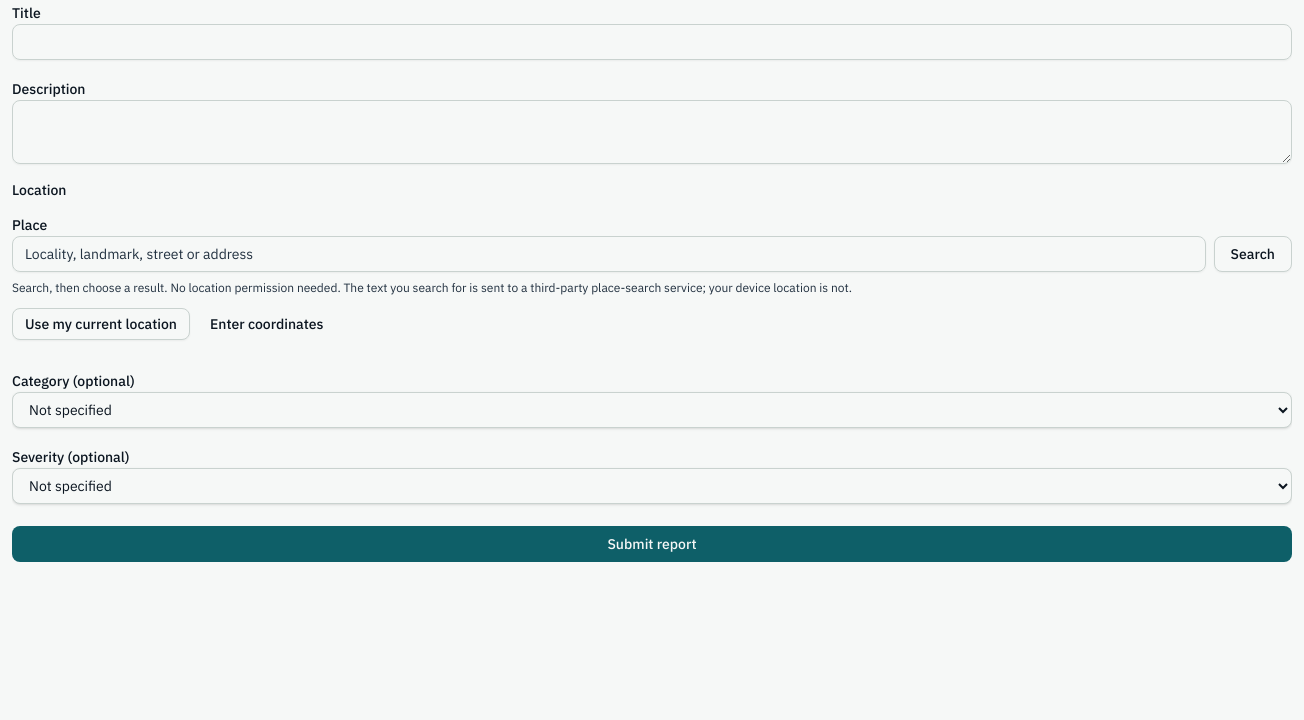
Test: IssueReportForm geolocation › failure: shows manual-entry fallback and leaves coordinates untouched
The image size is (1304, 720).
Click the button "Use my current location" at {"x": 101, "y": 324}, box x1=12 y1=308 x2=190 y2=340
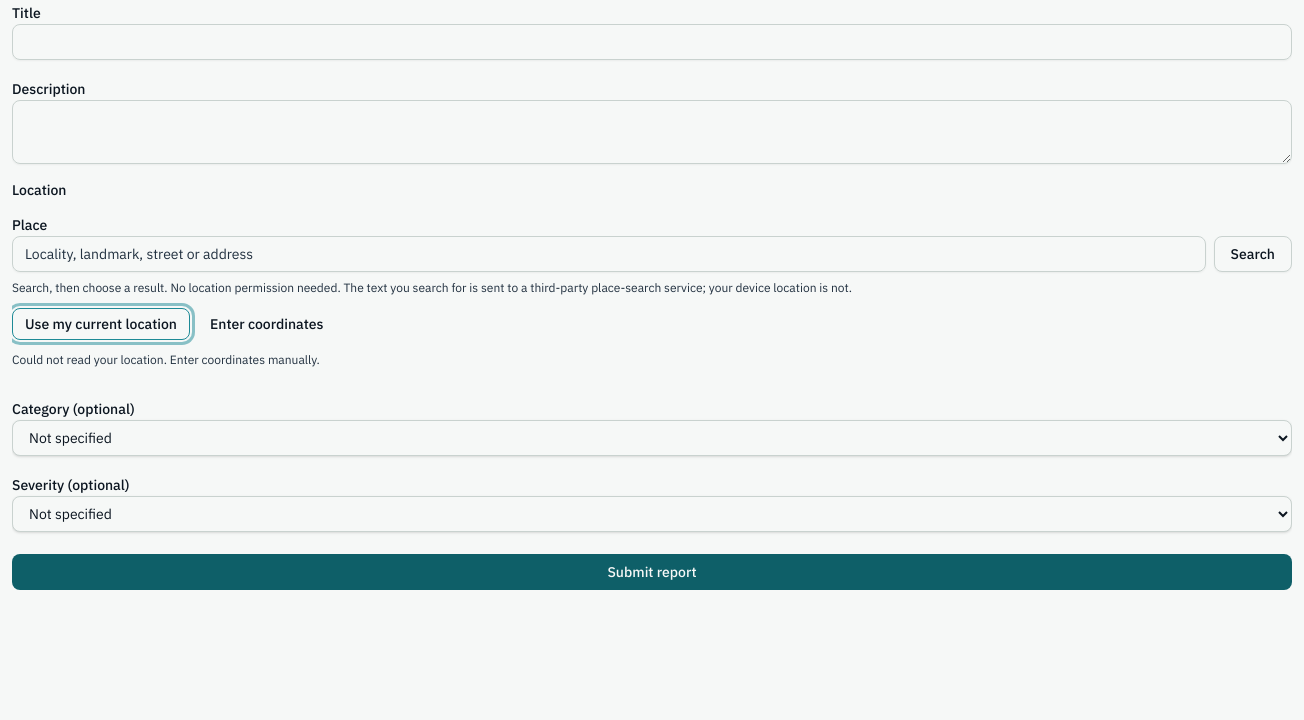
Check: the element named "latitude" is empty, box x1=12 y1=180 x2=1292 y2=380
Check: the message shows "Enter coordinates manually", box x1=12 y1=352 x2=320 y2=367
